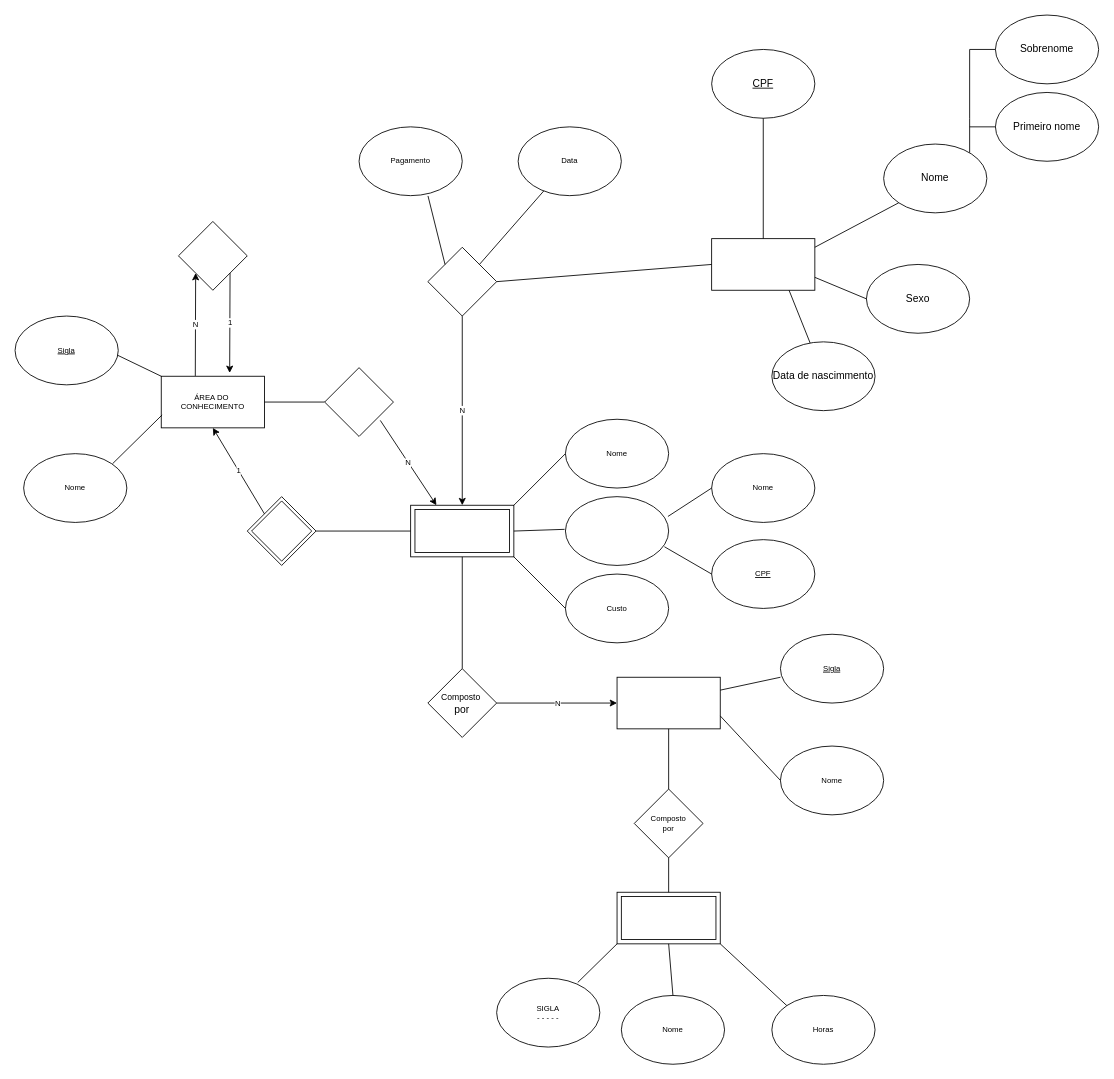
The diagram is 1114 pixels wide and 1079 high, and some of its shapes have lost their labels. The box of each missing label's shape, as (x1, y1, x2, y2) in pixels:
ALUNO: (711, 238, 815, 290)
CURSO: (414, 509, 510, 553)
Integra: (178, 221, 247, 290)
Matrícula: (427, 246, 497, 316)
MÓDULO: (616, 676, 720, 729)
Pertence: (251, 500, 312, 561)
Possui: (324, 367, 393, 436)
Professores: (565, 496, 669, 565)
TÓPICO: (620, 896, 716, 940)
